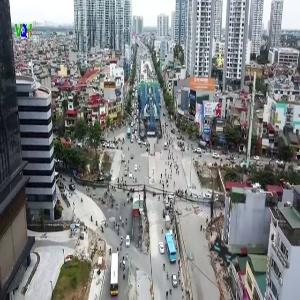drone: (187, 212, 265, 290)
